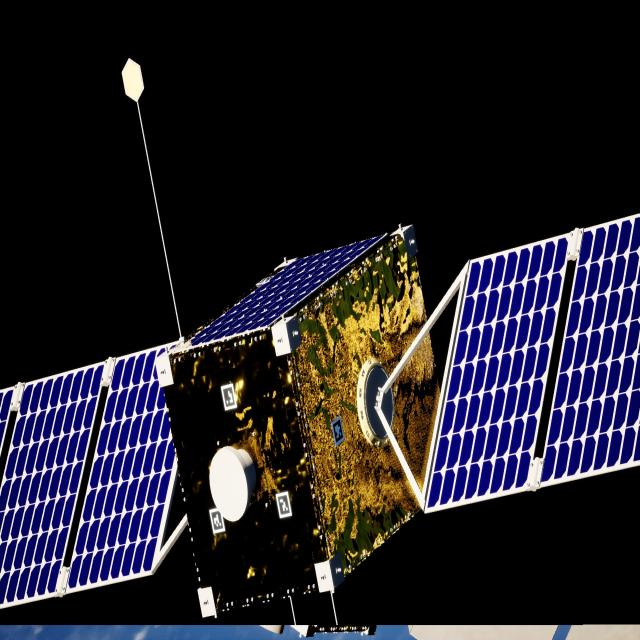satellite: (0, 214, 640, 622)
